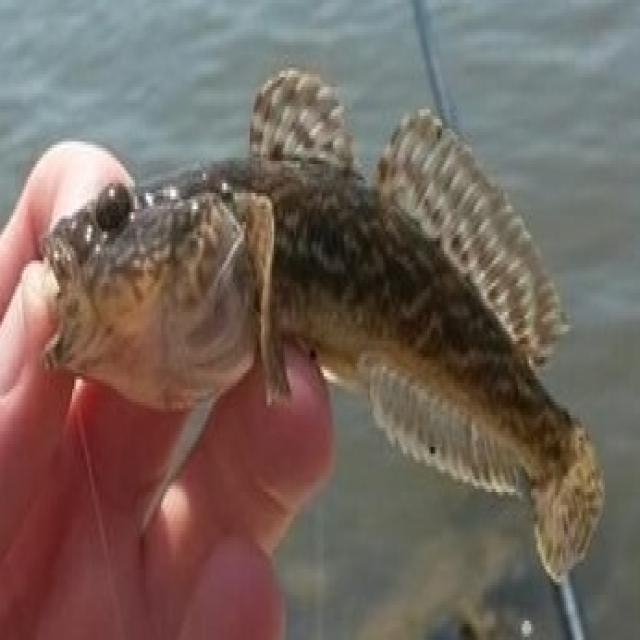Goby: (21, 83, 640, 623)
